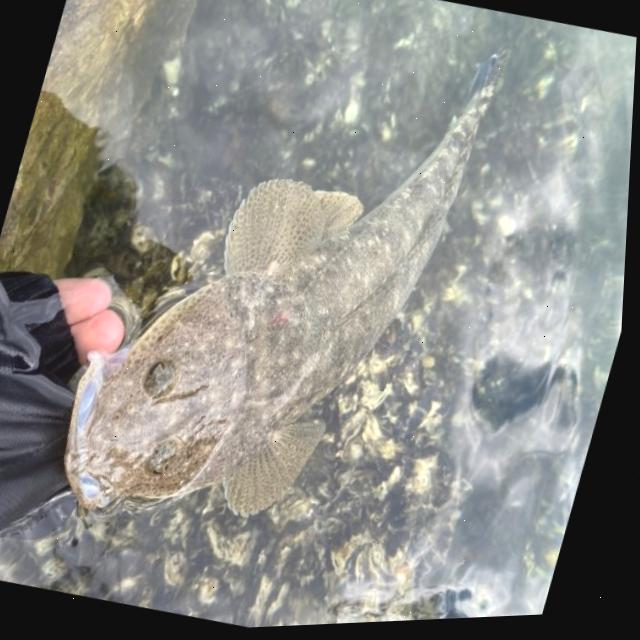Flathead: (35, 0, 522, 592)
